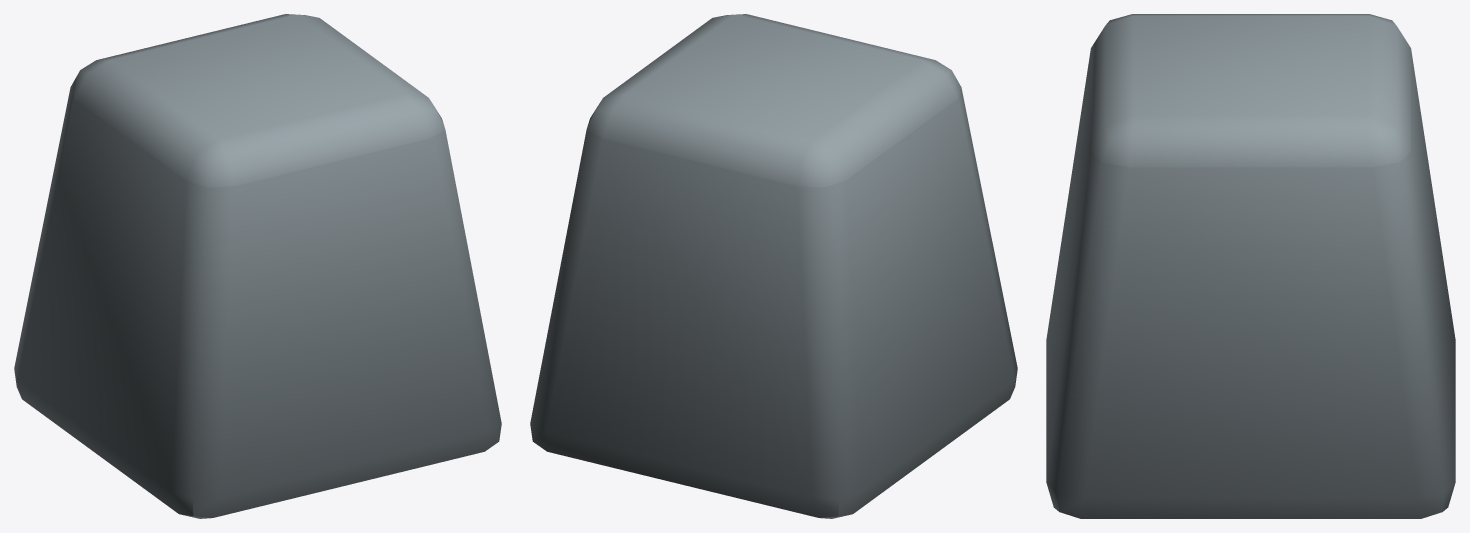
Rendered from Rock_2_C_Color1.glb.
The picture shows the model from 3 angles, left to right: view 1: azimuth 30°, elevation 25°; view 2: azimuth 150°, elevation 25°; view 3: azimuth 270°, elevation 25°; orthographic projection. The views are drawn at different scales.
Parts seen in each view (by area): view 1: Rock_2_C_Color1; view 2: Rock_2_C_Color1; view 3: Rock_2_C_Color1.
Boxes of the visible parts, x1=… form: Rock_2_C_Color1: x1=14, y1=14, x2=501, y2=518; Rock_2_C_Color1: x1=530, y1=14, x2=1017, y2=518; Rock_2_C_Color1: x1=1046, y1=14, x2=1455, y2=518.
Size of the model in its own units: 1.3 by 1.33 by 1.3.
1 material, 1 textured.
